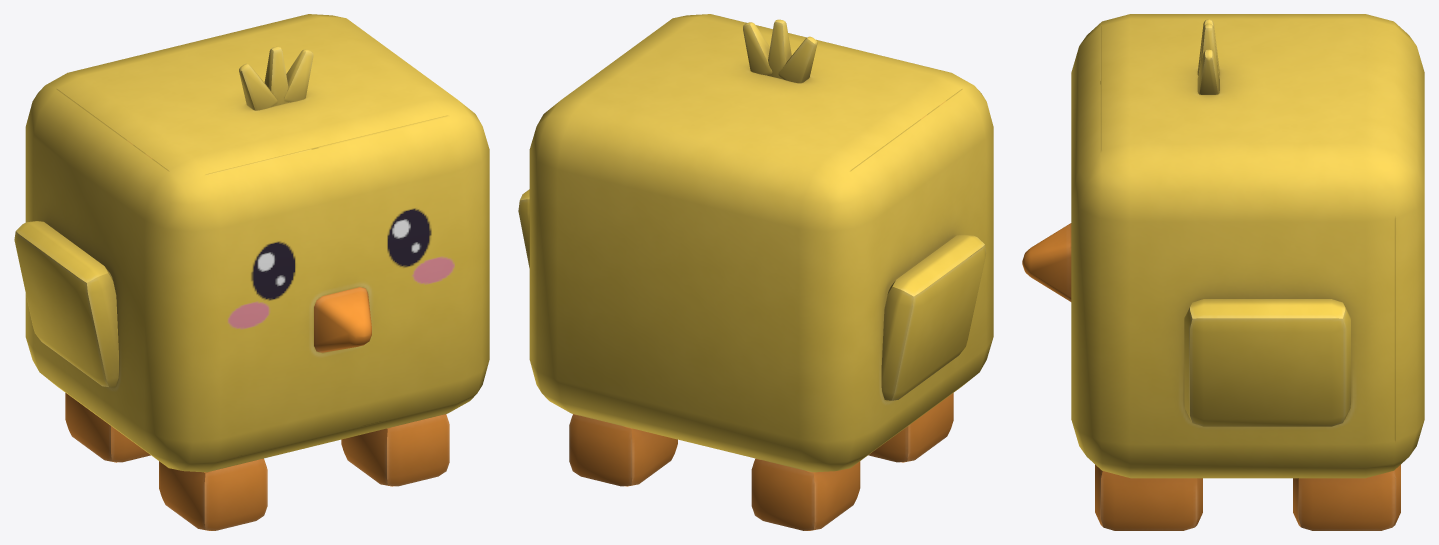
Rendered from Chick.fbx.
3 renders of one model, left to right at view 1: azimuth 30°, elevation 25°; view 2: azimuth 150°, elevation 25°; view 3: azimuth 270°, elevation 25°, orthographic. The views are drawn at different scales.
Parts seen in each view (by area): view 1: Chick; view 2: Chick; view 3: Chick.
Boxes of the visible parts, box(x1,y1,x2,y2) form: Chick: box(14, 14, 489, 530); Chick: box(518, 14, 993, 530); Chick: box(1022, 14, 1424, 530).
Bounding box in the file's own units: 251 × 252 × 205.
1 material, 1 textured.
